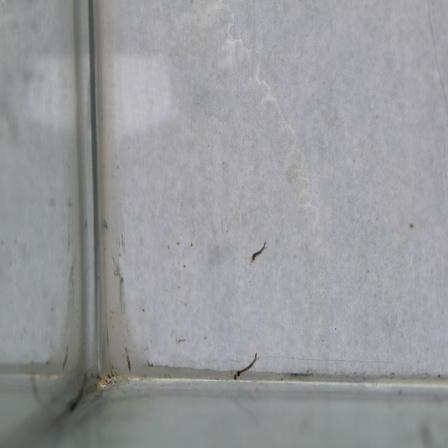Jentik-Nyamuk: (231, 350, 260, 382), (248, 239, 270, 266)
